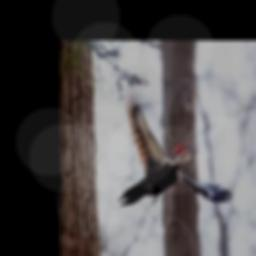Woodpecker: (118, 85, 232, 205)
